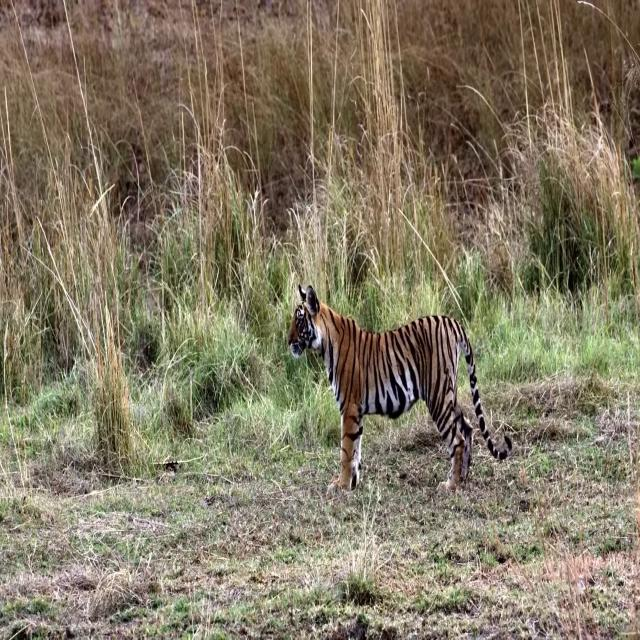tiger: (286, 281, 513, 501)
